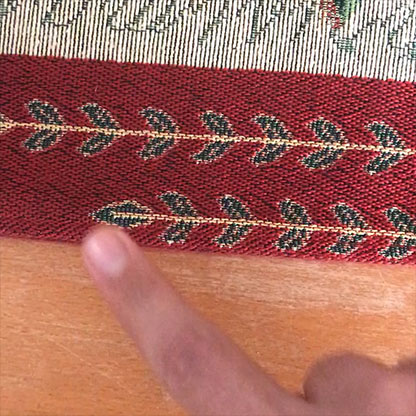fingertip: (70, 218, 146, 289)
